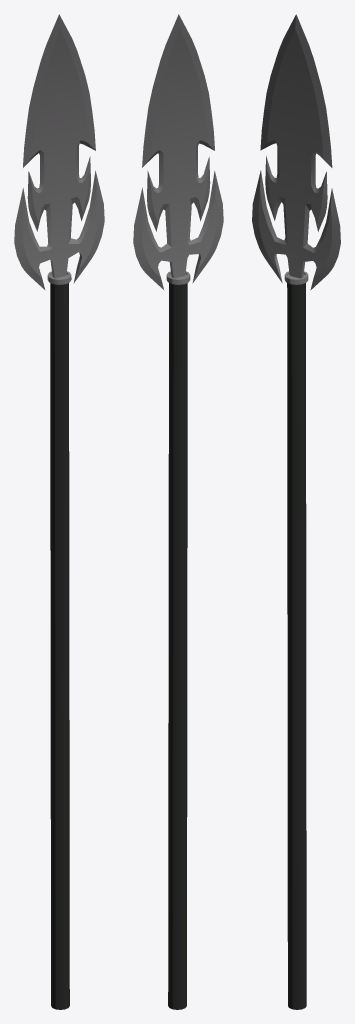
File: Spear_1.fbx
3 renders of one model, left to right at view 1: azimuth 30°, elevation 25°; view 2: azimuth 210°, elevation 25°; view 3: azimuth 330°, elevation 25°, orthographic.
Visible parts, largest first — view 1: Spear_1; view 2: Spear_1; view 3: Spear_1.
Part boxes in pixels (x1=…): Spear_1: x1=14, y1=14, x2=104, y2=1009; Spear_1: x1=133, y1=14, x2=223, y2=1009; Spear_1: x1=252, y1=14, x2=340, y2=1009.
Bounding box in the file's own units: 22.59 × 239 × 5.2.
